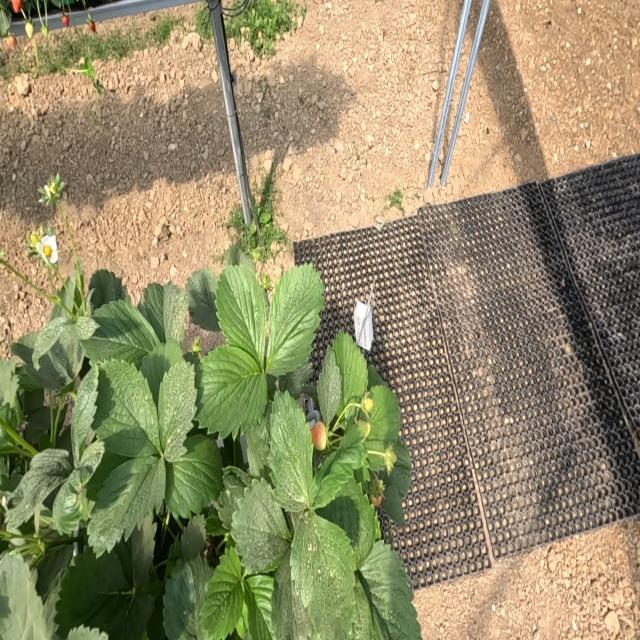Flowers: (36, 235, 58, 263)
Leaves: (290, 509, 355, 639), (88, 449, 165, 553), (196, 344, 266, 439), (56, 548, 130, 636), (266, 264, 323, 374), (95, 360, 159, 456), (359, 540, 420, 639), (267, 391, 314, 511), (232, 480, 290, 574), (6, 448, 72, 529), (319, 477, 378, 567), (215, 264, 267, 366), (83, 300, 160, 364), (52, 442, 104, 535), (12, 324, 83, 390), (312, 424, 367, 509), (165, 437, 223, 517), (163, 553, 212, 639), (157, 359, 195, 460), (1, 553, 46, 638), (201, 548, 243, 639), (86, 590, 155, 639), (331, 332, 368, 421), (138, 282, 187, 346), (140, 340, 183, 407), (364, 385, 400, 461), (72, 366, 98, 460), (217, 466, 252, 530), (186, 269, 219, 331), (243, 573, 274, 639), (33, 318, 77, 364), (86, 449, 125, 500), (37, 543, 72, 599), (318, 346, 343, 424), (132, 516, 156, 589), (89, 269, 127, 310), (386, 440, 411, 494), (246, 419, 269, 476), (380, 478, 404, 527), (180, 516, 206, 560), (285, 360, 312, 396), (0, 358, 19, 407), (25, 405, 50, 441), (205, 508, 229, 536), (76, 316, 99, 340), (370, 478, 385, 507)
Strawberries: (40, 173, 63, 204), (310, 422, 327, 450), (191, 337, 201, 357), (40, 12, 48, 36), (11, 0, 23, 13), (25, 22, 34, 39), (5, 36, 15, 49), (363, 398, 371, 412), (89, 20, 96, 33), (62, 14, 69, 26)
